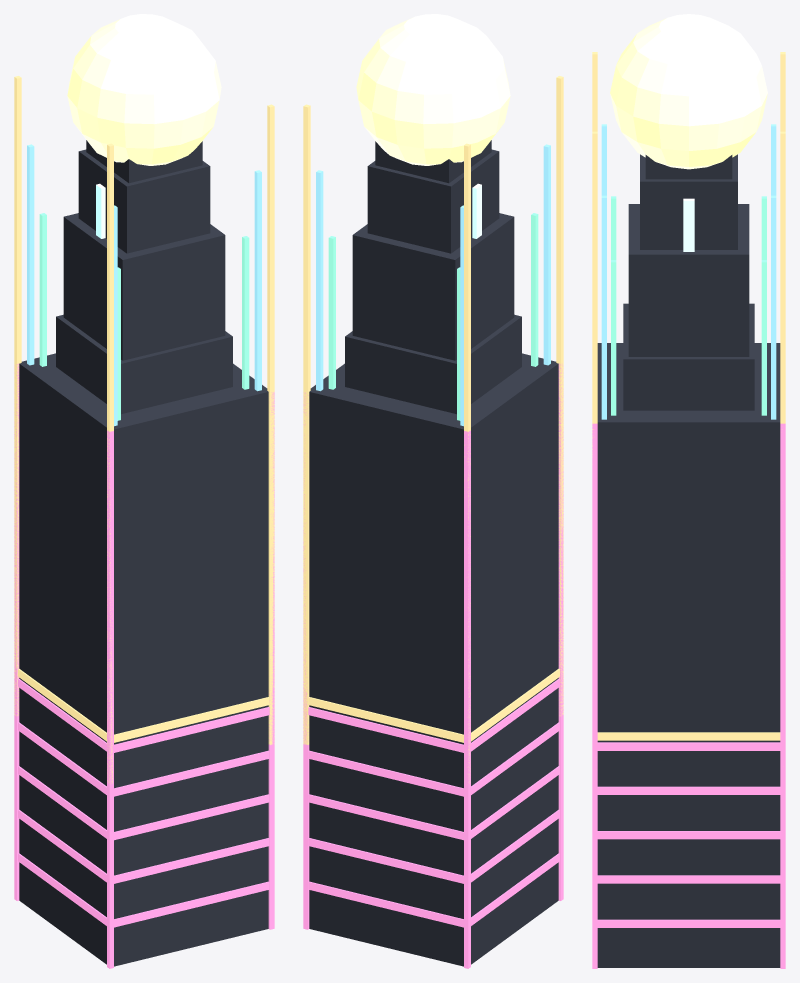
The model's file is buildings-neon.glb.
3 views of the same model, side by side, from view 1: azimuth 30°, elevation 25°; view 2: azimuth 150°, elevation 25°; view 3: azimuth 270°, elevation 25° (orthographic).
Visible parts, largest first — view 1: TowerB, TowerC, TowerA, TowerD; view 2: TowerB, TowerC, TowerA, TowerD; view 3: TowerB, TowerC, TowerA, TowerD.
Part boxes in pixels (bbox=[...]): TowerB: bbox=[14, 353, 274, 968]; TowerC: bbox=[14, 14, 274, 783]; TowerA: bbox=[27, 144, 261, 426]; TowerD: bbox=[39, 183, 249, 420]; TowerB: bbox=[303, 353, 563, 968]; TowerC: bbox=[303, 14, 563, 783]; TowerA: bbox=[316, 144, 550, 426]; TowerD: bbox=[328, 183, 538, 420]; TowerB: bbox=[592, 343, 785, 968]; TowerC: bbox=[592, 14, 785, 779]; TowerA: bbox=[601, 124, 776, 419]; TowerD: bbox=[611, 196, 766, 415].
Bounding box in the file's own units: 10.28 × 53.2 × 10.28.
